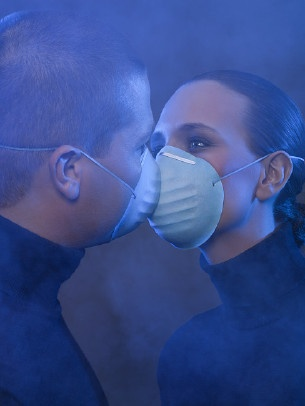Mask: (26, 95, 173, 241)
